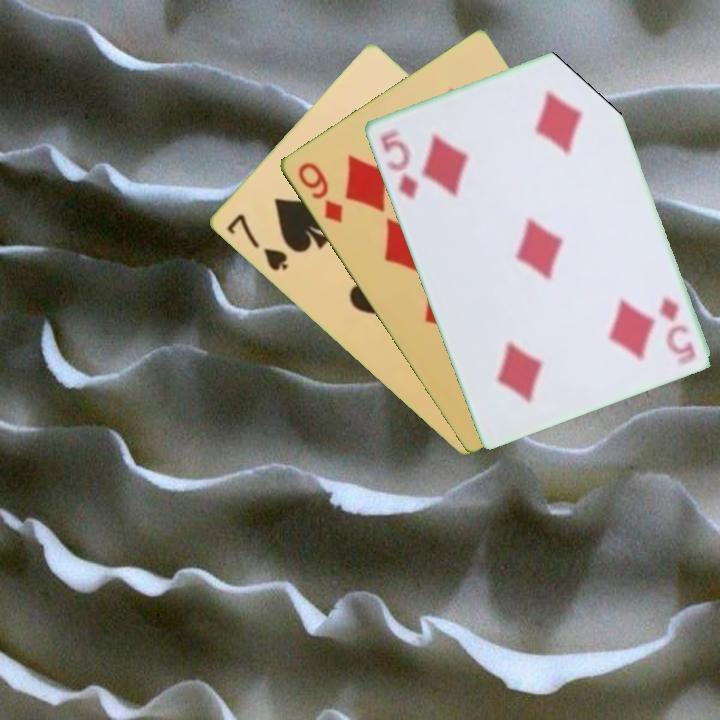5d: (376, 125, 421, 202), (654, 294, 698, 368)
7s: (222, 210, 290, 274)
9d: (293, 158, 345, 226)
